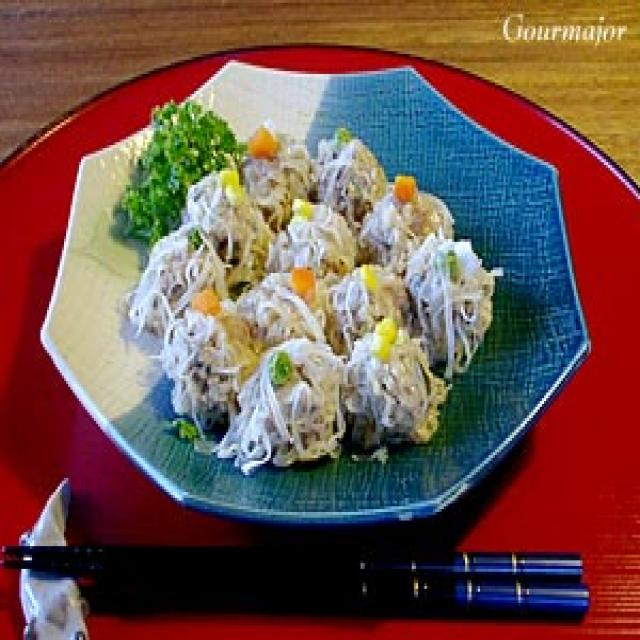带馅早点: (153, 128, 492, 455)
